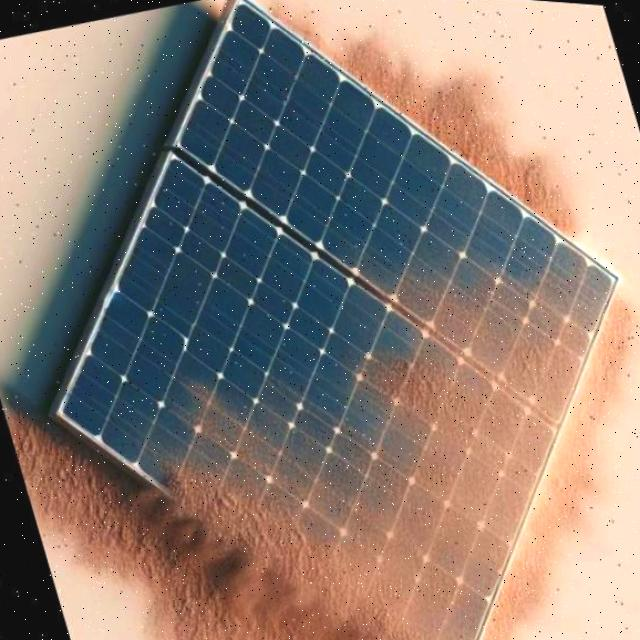Anomaly Solar Panel: (31, 0, 640, 640)
Surface Contaminant: (120, 103, 623, 640)
